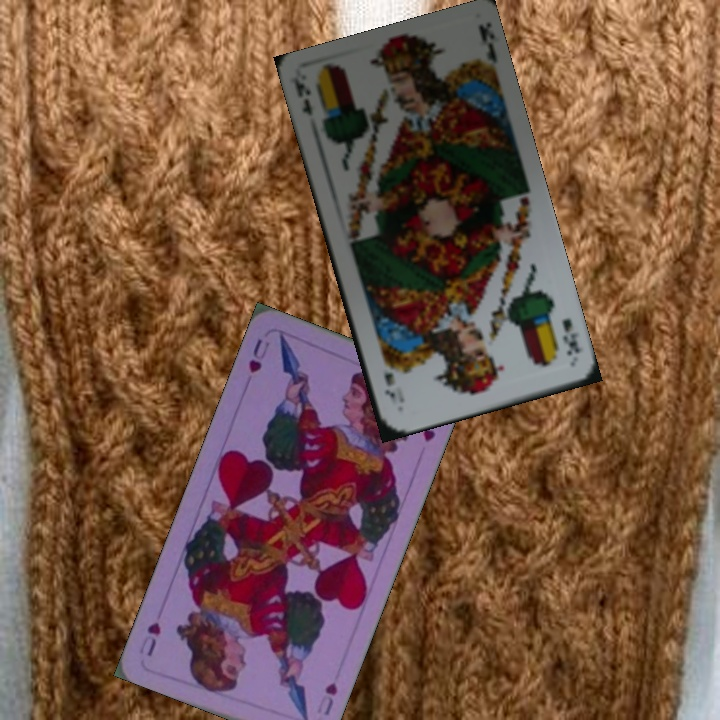EK: (288, 76, 316, 119), (558, 314, 584, 358)
HU: (244, 335, 273, 375), (313, 678, 341, 718)
